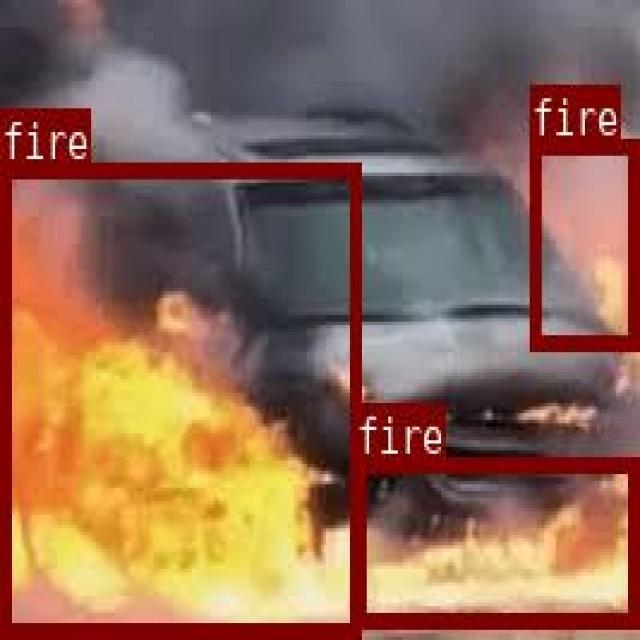fire: (0, 163, 357, 633), (354, 455, 635, 623), (528, 139, 636, 345)
